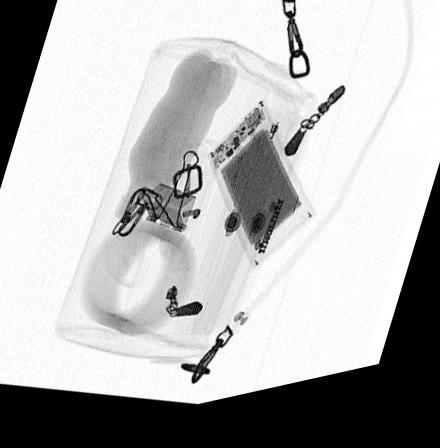Powerbank: (206, 108, 318, 280)
